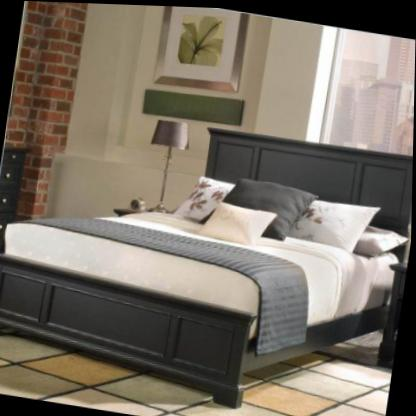Bed: (0, 87, 414, 416)
